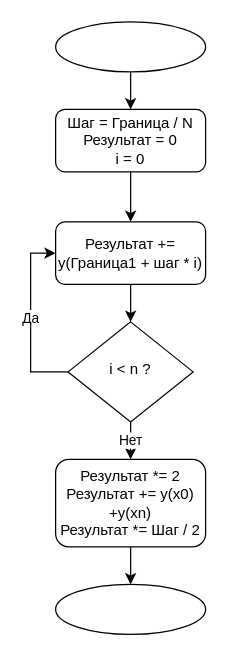
Image size: 228x656. Some labels were removed from this diagram. The shapes that lost their labels are listed below. From the top down, each one's centre as x and y in pixels, then its label:
At point 130,46: "Начало".
At point 130,608: "Конец".
